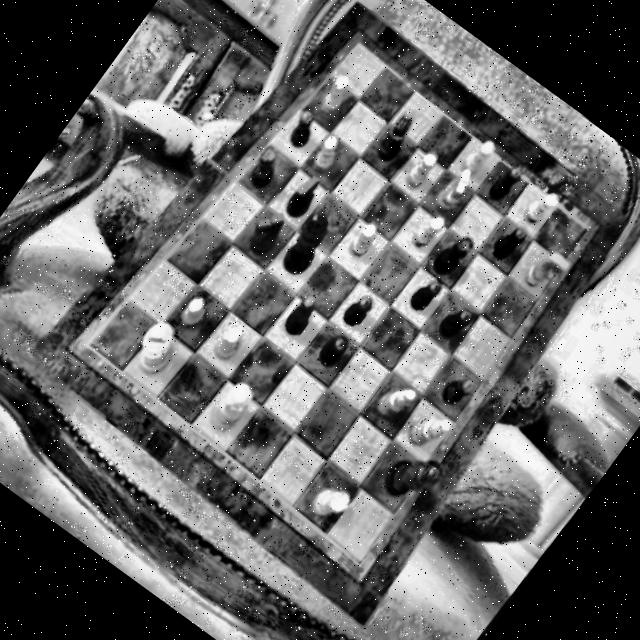black-bishop: (373, 103, 426, 164), (282, 290, 326, 338)
black-king: (276, 207, 342, 281)
black-knight: (243, 205, 293, 260), (282, 172, 328, 222)
black-pawn: (284, 106, 326, 151), (440, 366, 481, 410), (492, 218, 532, 262), (438, 299, 478, 342), (408, 272, 446, 314), (486, 160, 524, 202), (317, 332, 353, 372), (341, 290, 377, 330)
black-queen: (379, 439, 452, 514)
black-rook: (242, 141, 292, 194), (430, 227, 478, 280)
white-bishop: (404, 403, 456, 457), (374, 376, 421, 426)
white-king: (126, 316, 190, 384)
white-knight: (522, 240, 574, 296), (433, 163, 480, 217)
white-pawn: (317, 72, 357, 118), (459, 134, 499, 180), (522, 185, 562, 229), (403, 148, 442, 192), (310, 134, 349, 176), (411, 208, 449, 250), (348, 218, 384, 260), (180, 294, 216, 332)
white-queen: (206, 376, 264, 439)
white-rook: (310, 476, 358, 524), (212, 320, 254, 367)
